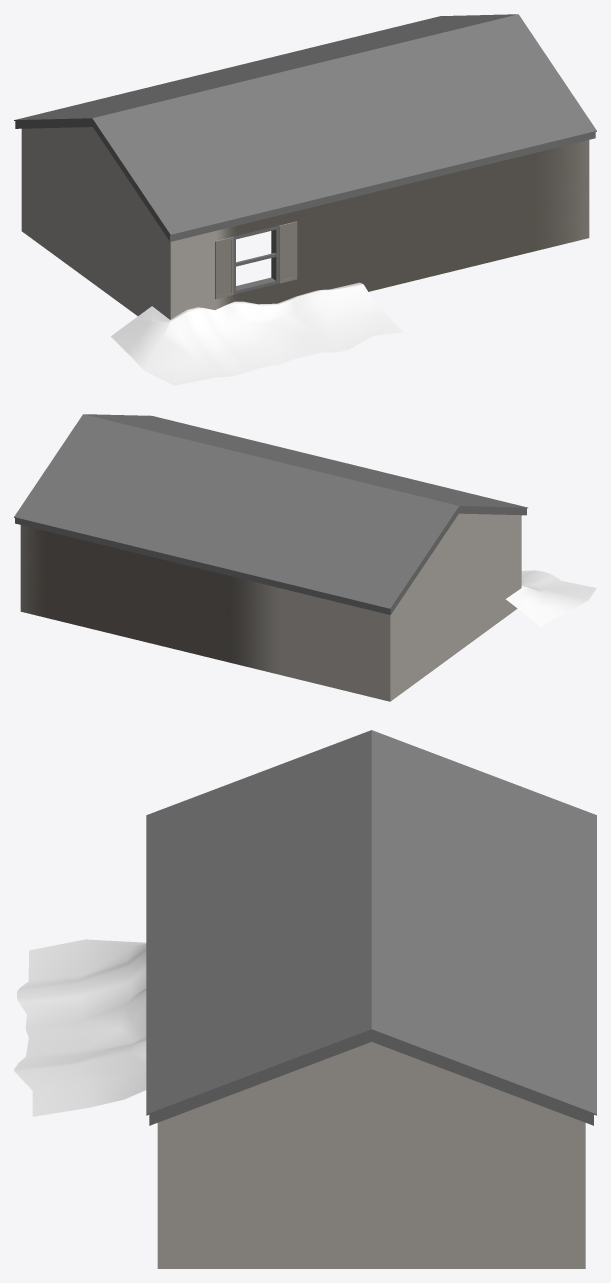
Rendered from HouseTest.obj.
3 views of the same model, one above another, from view 1: azimuth 30°, elevation 25°; view 2: azimuth 150°, elevation 25°; view 3: azimuth 270°, elevation 25° (orthographic). The views are drawn at different scales.
Visible parts, largest first — view 1: polySurface9, polySurface5, polySurface6, polySurface8, polySurface3, polySurface4, polySurface10; view 2: polySurface9, polySurface5, polySurface8, polySurface6; view 3: polySurface9, polySurface5, polySurface6, polySurface8.
Boxes of the visible parts, x1,y1,x2,y2 form: polySurface9: (14, 14, 596, 235); polySurface5: (21, 127, 589, 319); polySurface6: (111, 282, 402, 385); polySurface8: (15, 119, 595, 241); polySurface3: (233, 226, 278, 294); polySurface4: (215, 237, 233, 299); polySurface10: (279, 221, 297, 283); polySurface9: (14, 414, 527, 609); polySurface5: (20, 513, 521, 701); polySurface8: (15, 506, 526, 614); polySurface6: (506, 570, 596, 626); polySurface9: (146, 730, 596, 1115); polySurface5: (157, 1042, 585, 1268); polySurface6: (14, 939, 146, 1116); polySurface8: (149, 1030, 593, 1125).
Size of the model in its own units: 1174 by 414 by 871.
Materials: 3 (1 with a texture image).
